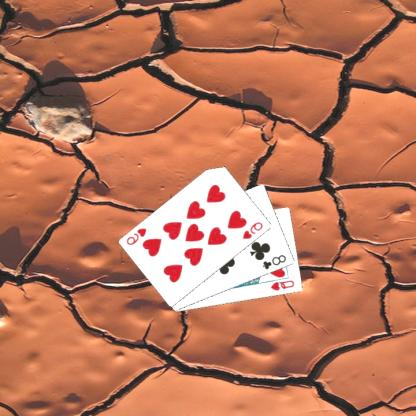8C: (262, 252, 289, 271)
9H: (125, 225, 150, 246), (242, 219, 266, 240)
QH: (270, 278, 297, 292)
